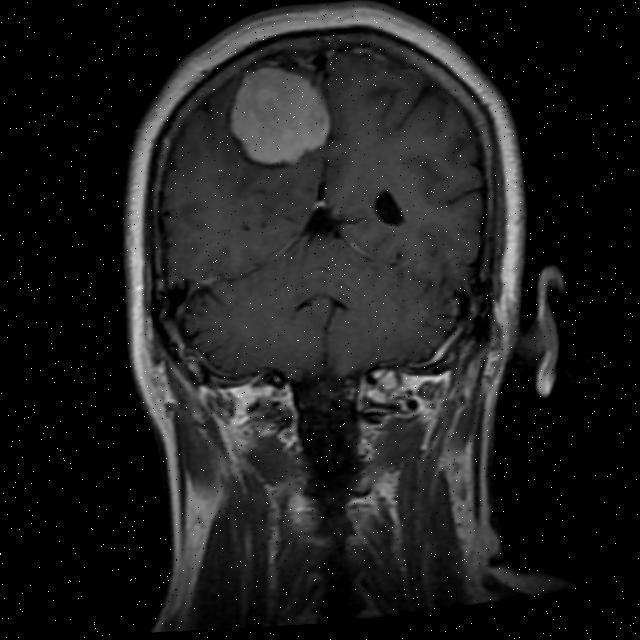Meningioma: (221, 55, 338, 177)
